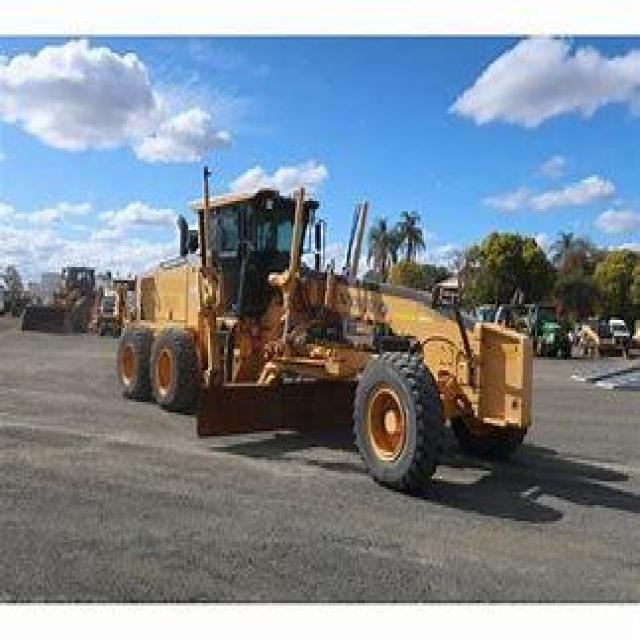buldozerpayloadergrader: (97, 172, 551, 494)
